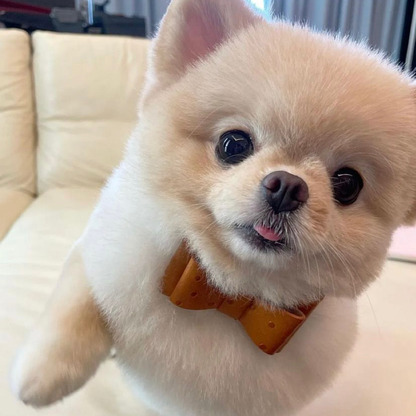Pomeranian: (104, 9, 393, 395)
